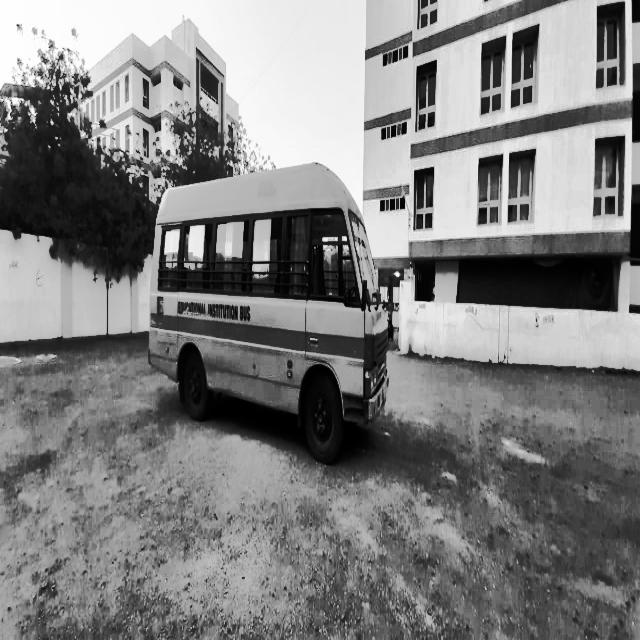Bus: (145, 156, 395, 477)
